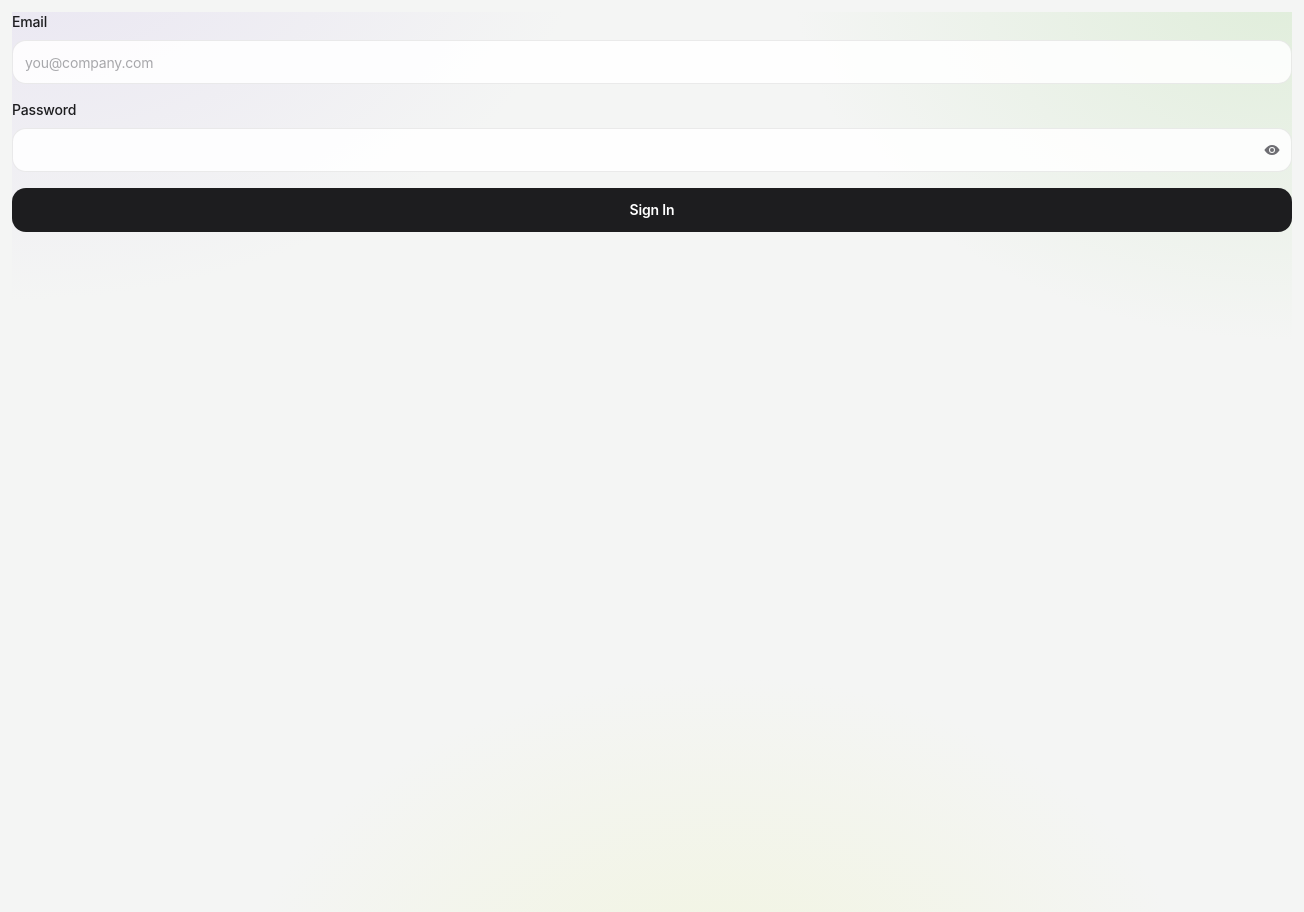
LoginForm › requires an email and a password
Click the button "Sign In" at (652, 210), box [12, 188, 1292, 232]
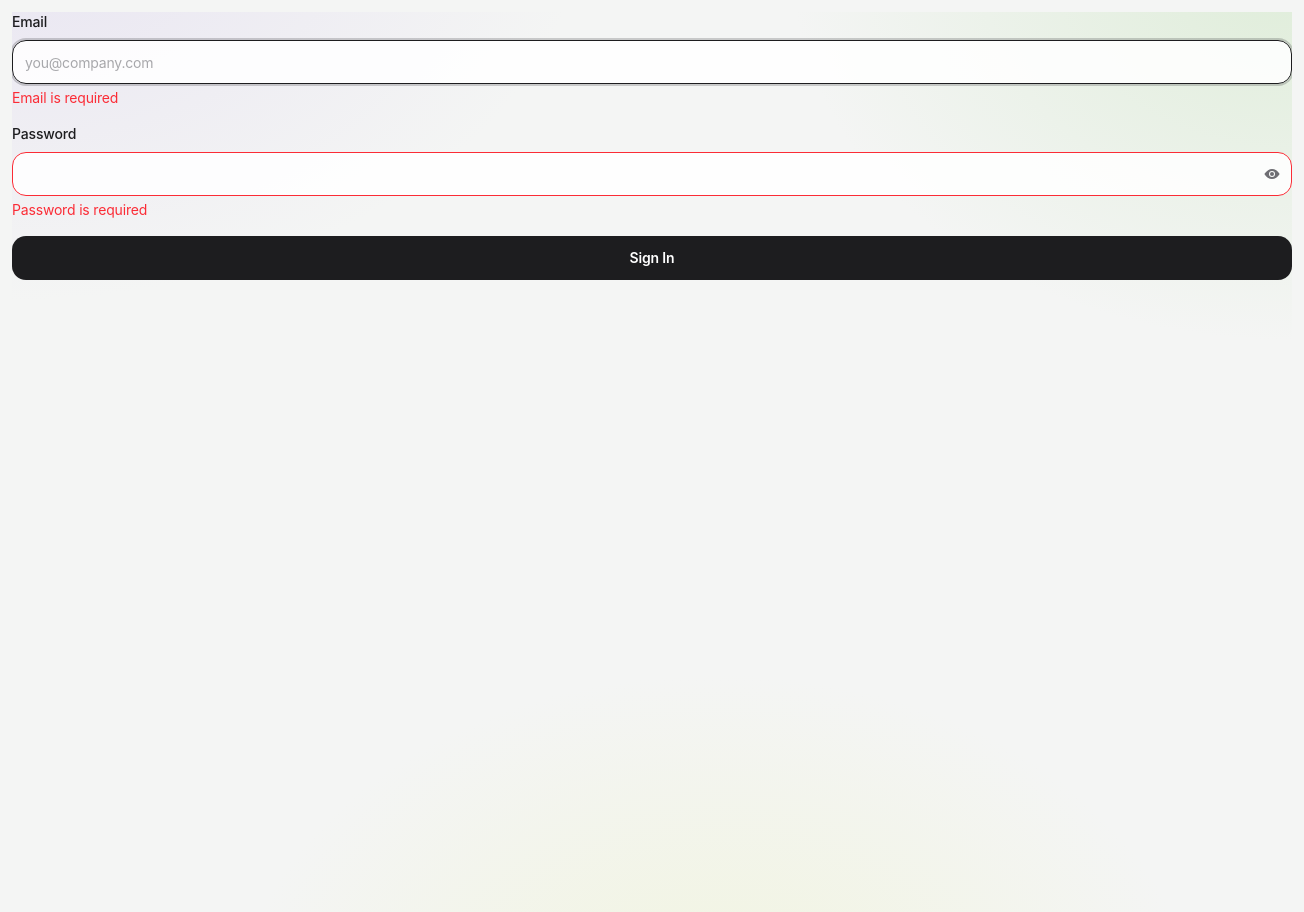
Now the text "Email is required" is shown, box [12, 89, 118, 106]
Now the text "Password is required" is shown, box [12, 201, 147, 218]
